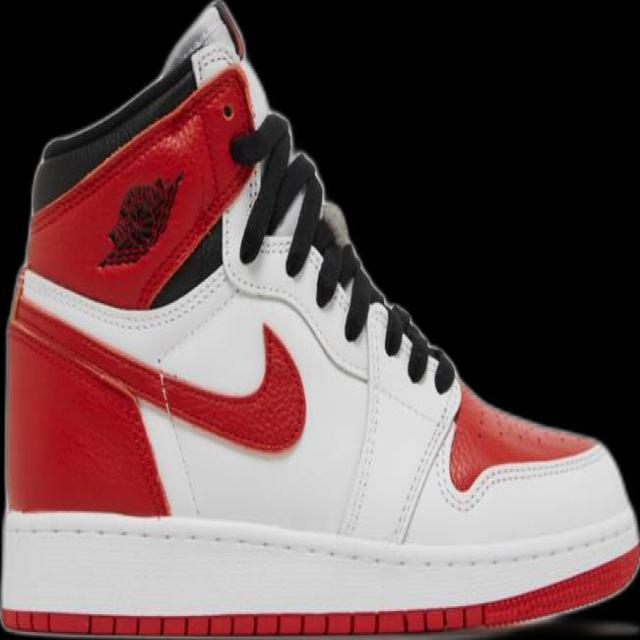J1_InsoleChar: (0, 0, 639, 639)
J1_ShoeLogo: (95, 169, 184, 269)
J1_StitchPattern: (16, 108, 463, 541), (0, 505, 639, 633), (233, 110, 458, 396), (12, 265, 216, 518), (2, 511, 638, 573), (337, 300, 460, 540), (313, 237, 457, 394), (14, 263, 234, 335), (234, 109, 326, 275), (337, 304, 388, 538), (389, 387, 462, 544), (152, 362, 205, 518), (313, 239, 388, 341), (381, 301, 457, 395), (187, 40, 239, 85)
